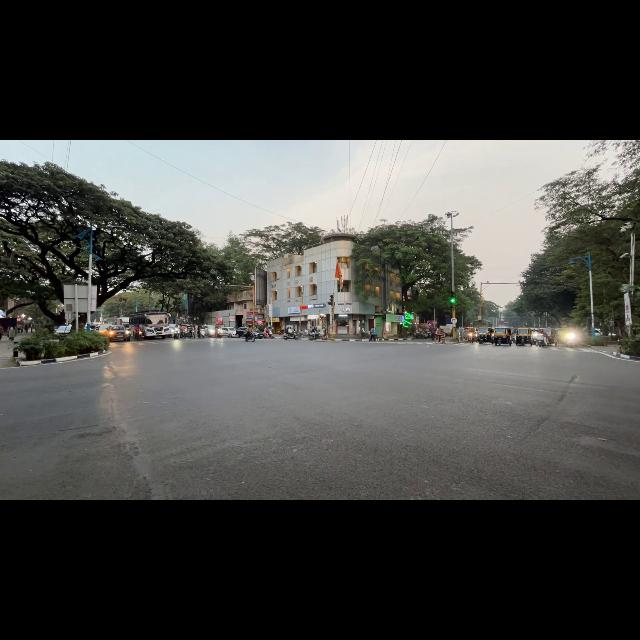bus: (129, 311, 170, 338), (116, 317, 129, 326)
car: (106, 325, 130, 341), (54, 325, 71, 338), (203, 325, 221, 337), (236, 326, 248, 338), (222, 327, 236, 337), (98, 324, 111, 334), (169, 324, 178, 337), (253, 329, 263, 338)
motorcycle: (566, 332, 577, 347), (537, 335, 547, 347), (283, 332, 298, 339), (309, 331, 320, 340), (134, 329, 143, 340), (245, 332, 255, 341), (467, 333, 475, 343), (187, 329, 195, 338), (179, 330, 186, 338), (278, 329, 284, 335), (268, 333, 275, 338)
